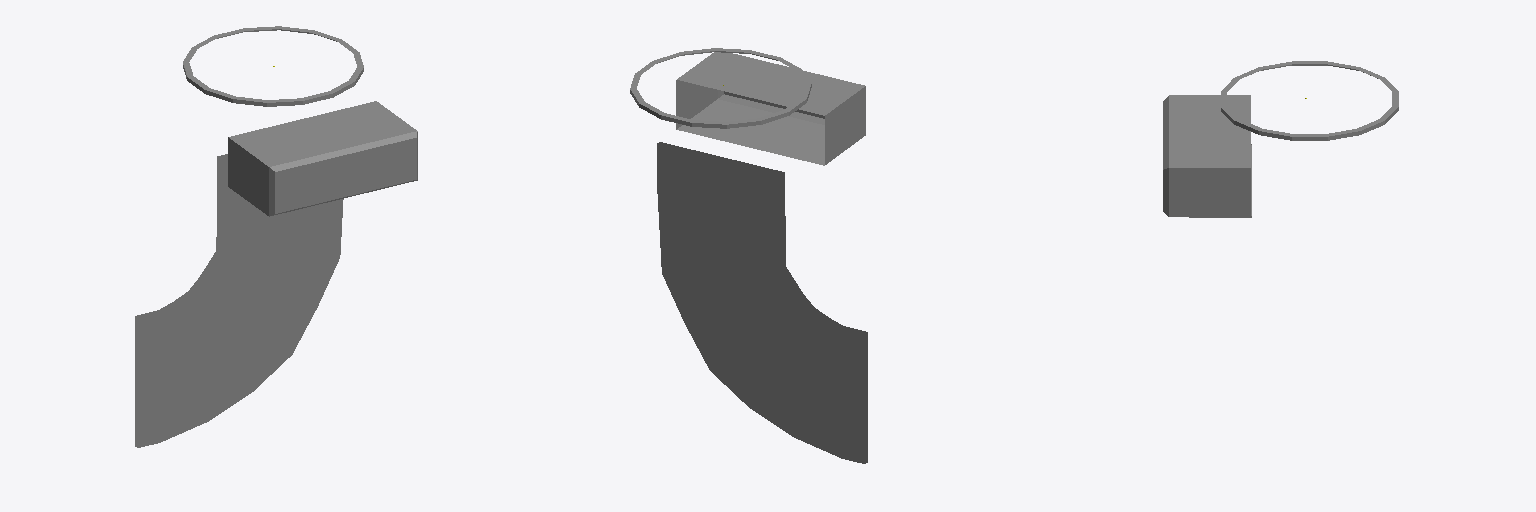
File: cpz01_pipemarkL.obj
The picture shows the model from 3 angles: view 1: azimuth 30°, elevation 25°; view 2: azimuth 150°, elevation 25°; view 3: azimuth 270°, elevation 25°; orthographic projection.
Parts seen in each view (by area): view 1: cpz_obj_watershadow, ccp_metal_yy_metal_Cmn_dpn, cpz_obj_etc_tn1_towerlight_001, ccp_etc_yy_light01_IgnoL_d, cpz_obj_airball; view 2: cpz_obj_airball, ccp_metal_yy_metal_Cmn_dpn, cpz_obj_etc_tn1_towerlight_001, cpz_obj_watershadow; view 3: ccp_metal_yy_metal_Cmn_dpn, cpz_obj_etc_tn1_towerlight_001.
Part boxes in pixels (x1,y1,x2,y2): cpz_obj_watershadow: (137, 156, 343, 447); ccp_metal_yy_metal_Cmn_dpn: (228, 101, 417, 216); cpz_obj_etc_tn1_towerlight_001: (183, 26, 405, 205); ccp_etc_yy_light01_IgnoL_d: (279, 143, 412, 208); cpz_obj_airball: (135, 154, 227, 446); cpz_obj_airball: (657, 143, 865, 463); ccp_metal_yy_metal_Cmn_dpn: (676, 52, 865, 165); cpz_obj_etc_tn1_towerlight_001: (630, 48, 811, 128); cpz_obj_watershadow: (659, 142, 867, 462); ccp_metal_yy_metal_Cmn_dpn: (1163, 95, 1251, 217); cpz_obj_etc_tn1_towerlight_001: (1221, 61, 1398, 140).
Size of the model in its own units: 66.39 by 100 by 62.46.